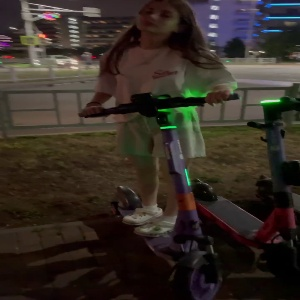human on a scooter: (78, 1, 238, 300)
